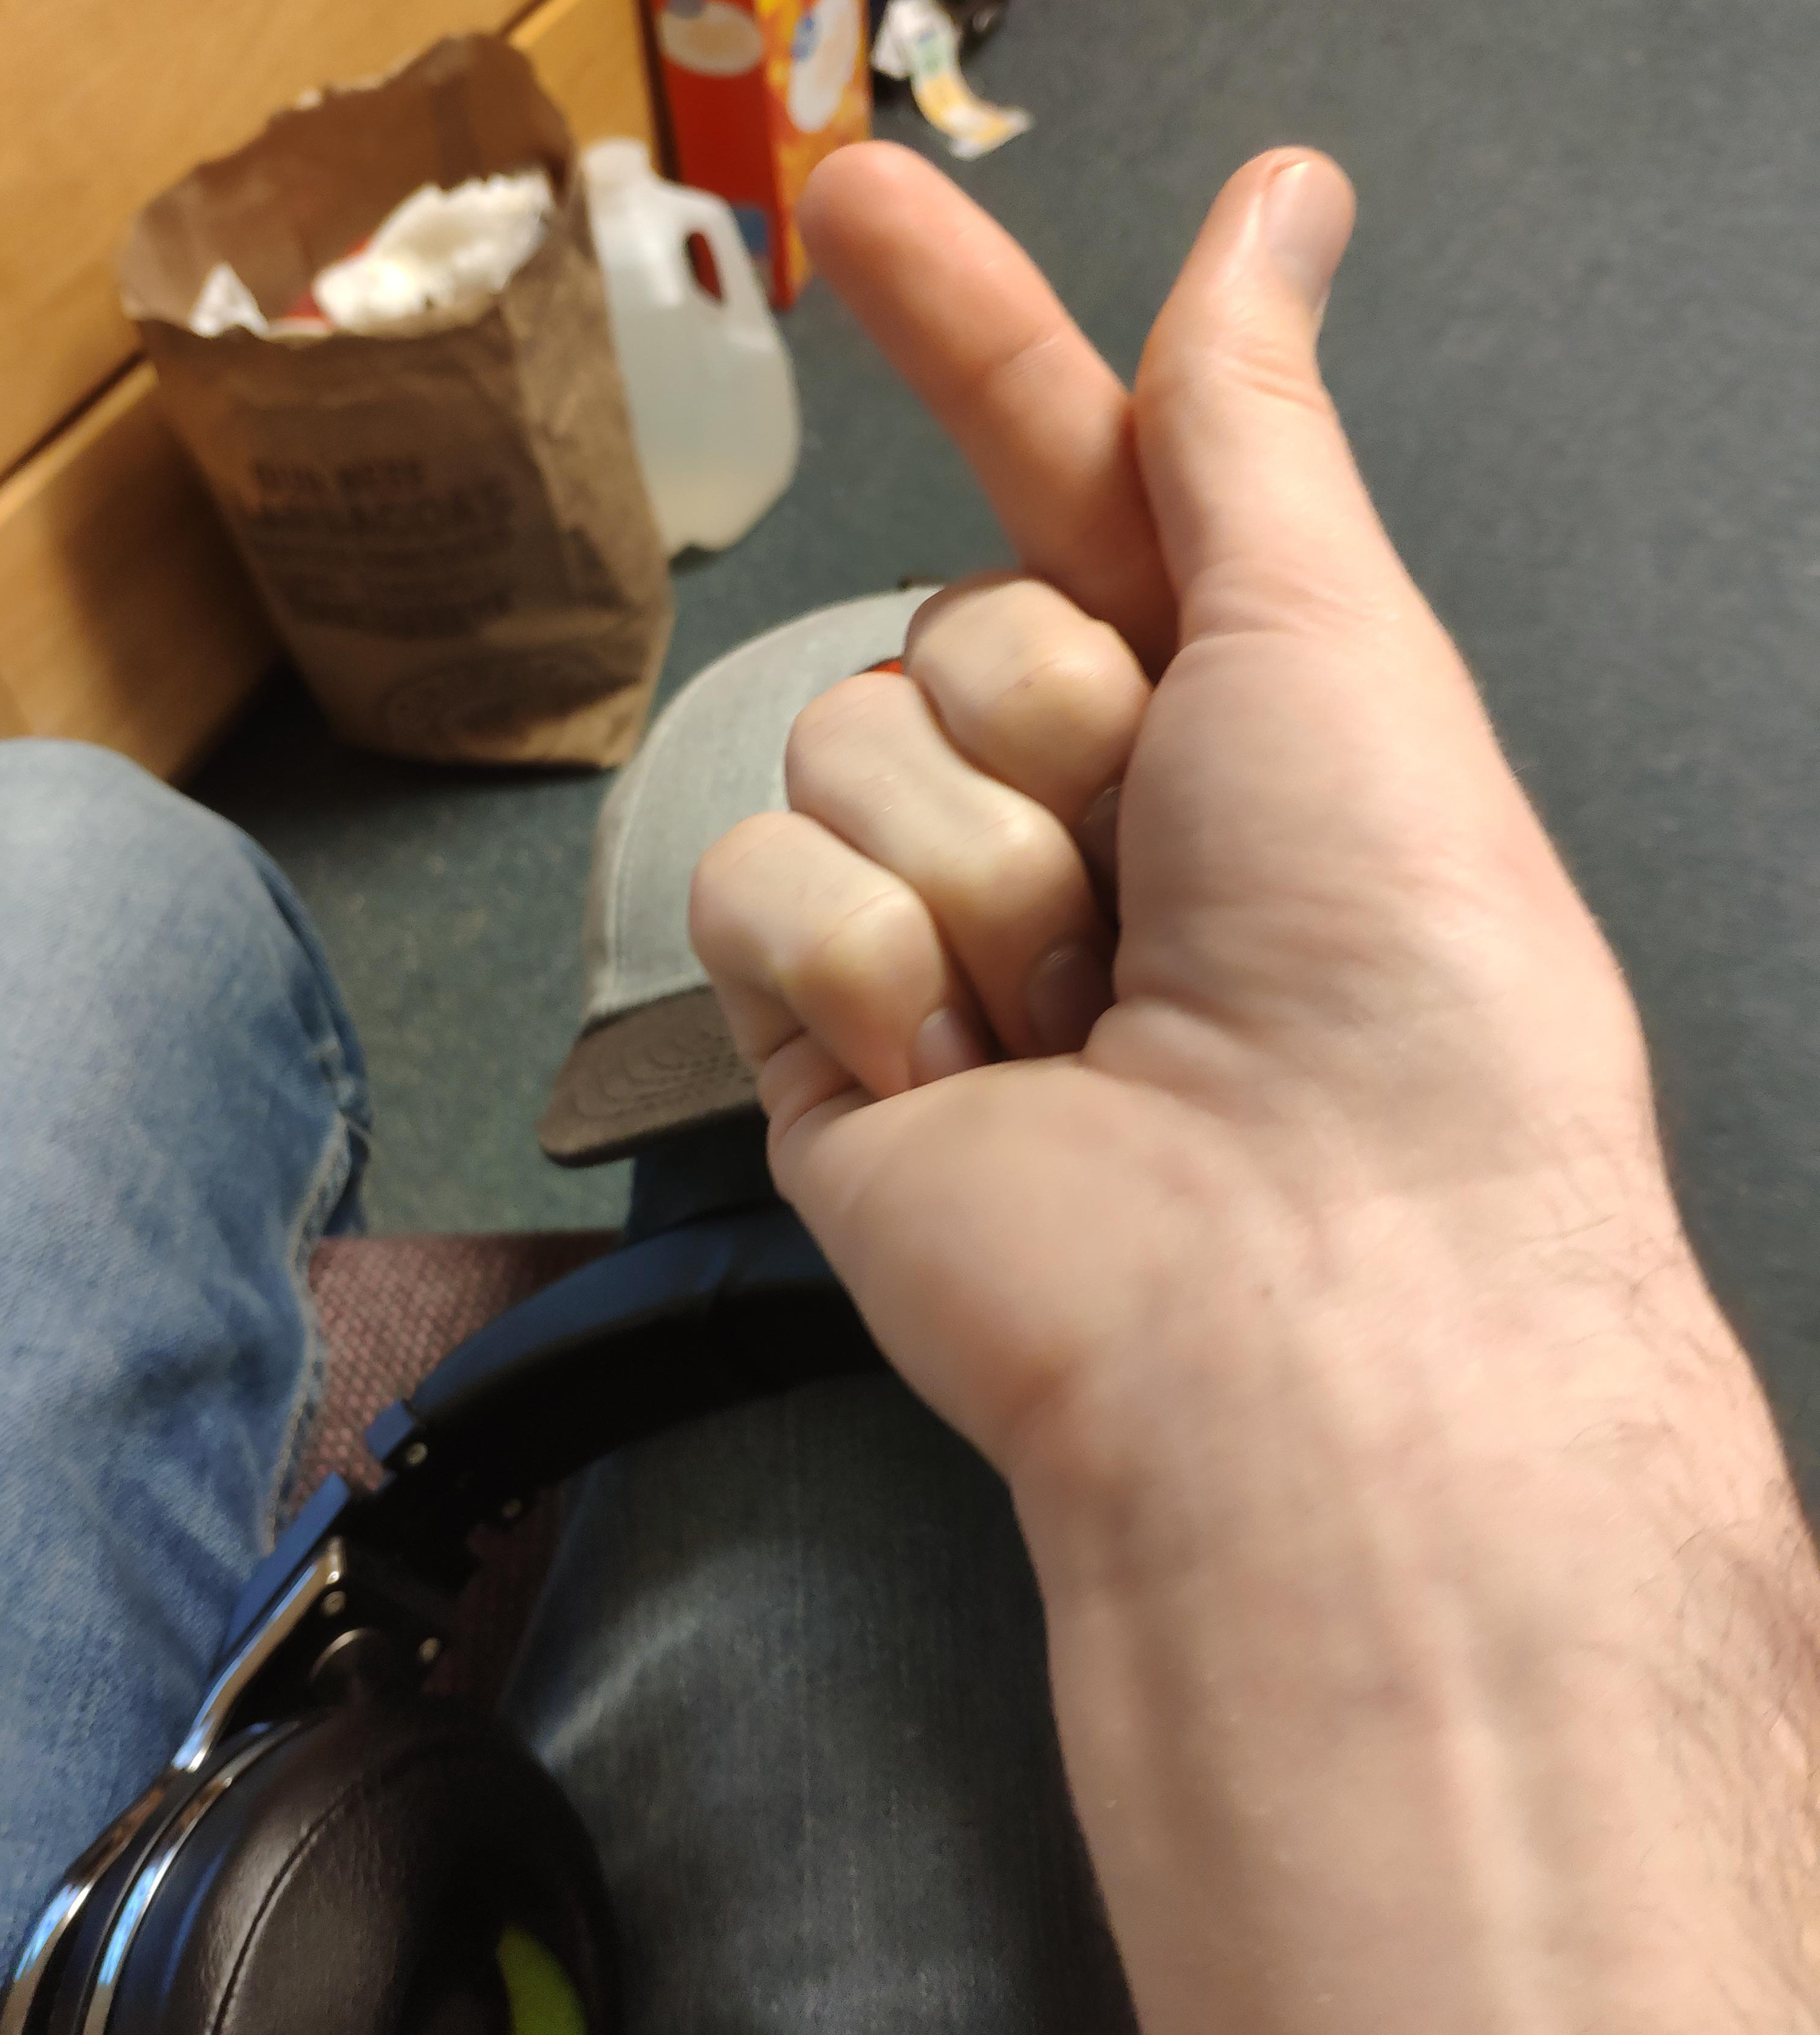heart gesture: (782, 128, 1384, 568)
